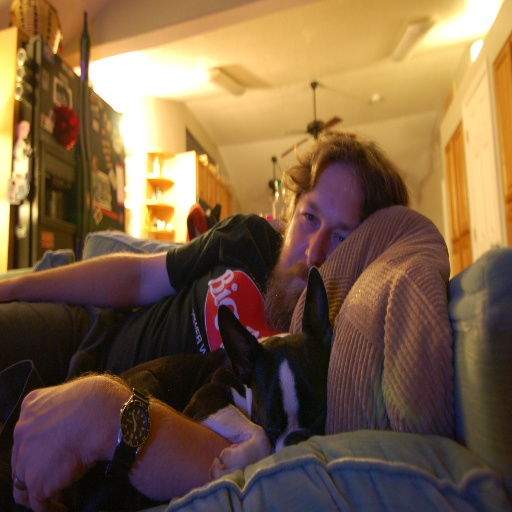hand: (18, 372, 139, 503)
